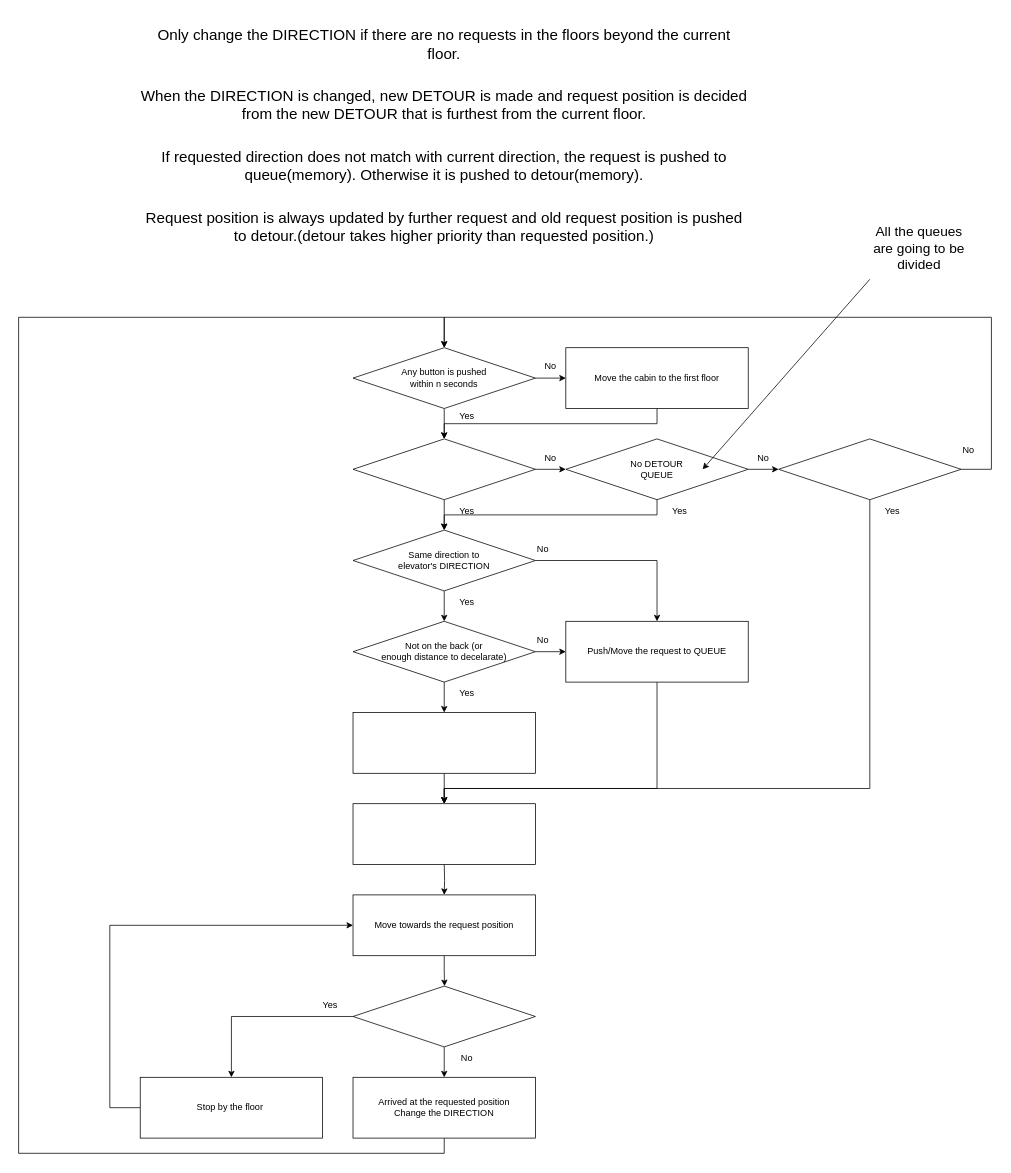
Image size: 1011x1173. Some labels were removed from this diagram. Each missing label, with the centre of its shape:
"Any Button is pushed" goes at pixel 443 469.
"DETOUR" goes at pixel 869 469.
"If detour exist" goes at pixel 443 1016.
"Push/Move the request to DETOUR" goes at pixel 443 742.
"Set the furthest DETOUR to the request position" goes at pixel 443 833.
